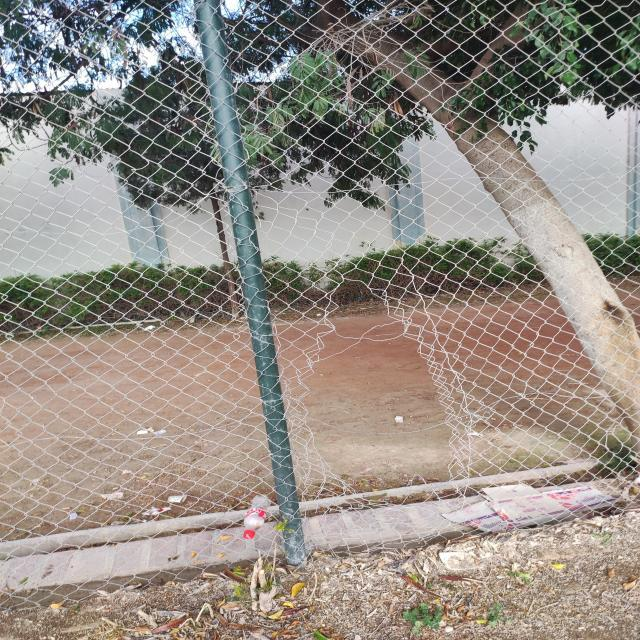fence line: (292, 287, 489, 501)
